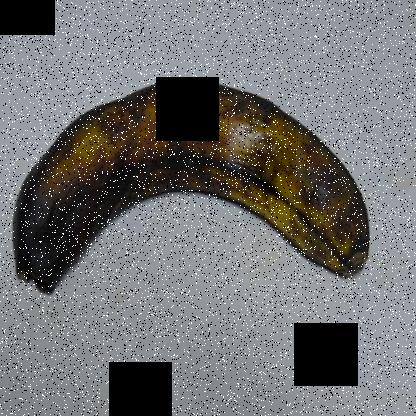overripe: (1, 66, 383, 323)
